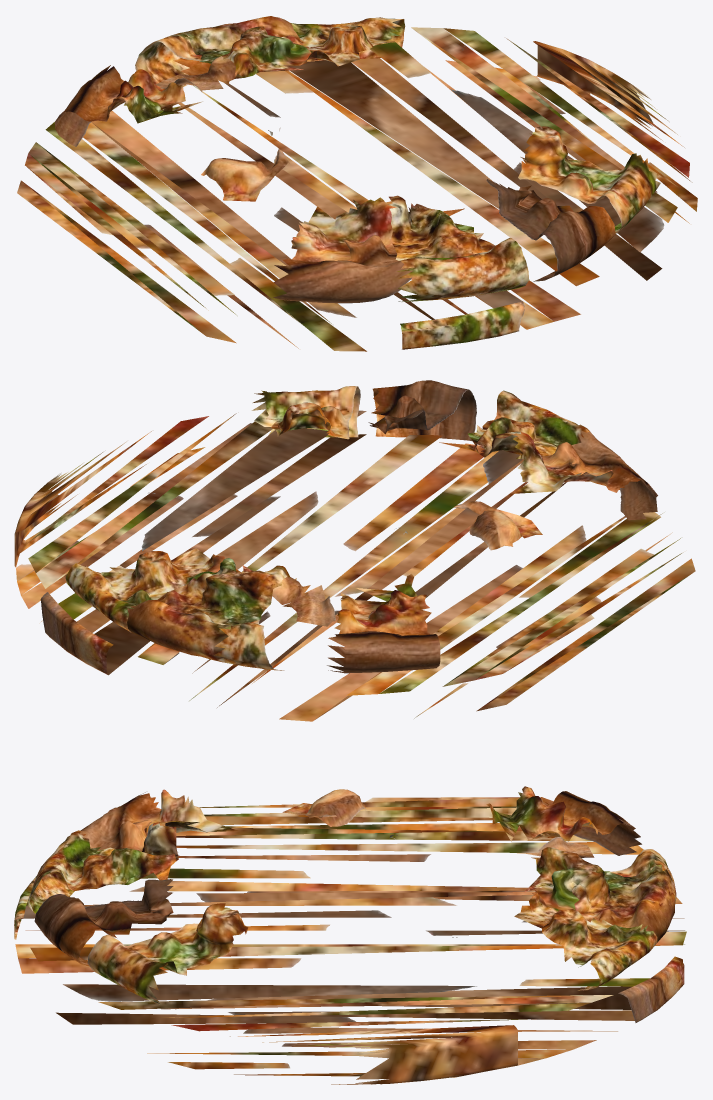
Rendered from pizza_pollo_croccante.fbx.
3 views of the same model, one above another, from view 1: azimuth 30°, elevation 25°; view 2: azimuth 150°, elevation 25°; view 3: azimuth 270°, elevation 25° (orthographic).
Visible parts, largest first — view 1: meshes[0]; view 2: meshes[0]; view 3: meshes[0].
Part boxes in pixels (x1,y1,x2,y2): meshes[0]: [17, 16, 697, 351]; meshes[0]: [14, 380, 695, 721]; meshes[0]: [14, 786, 686, 1084].
Bounding box in the file's own units: 99.8 × 16.21 × 99.8.
